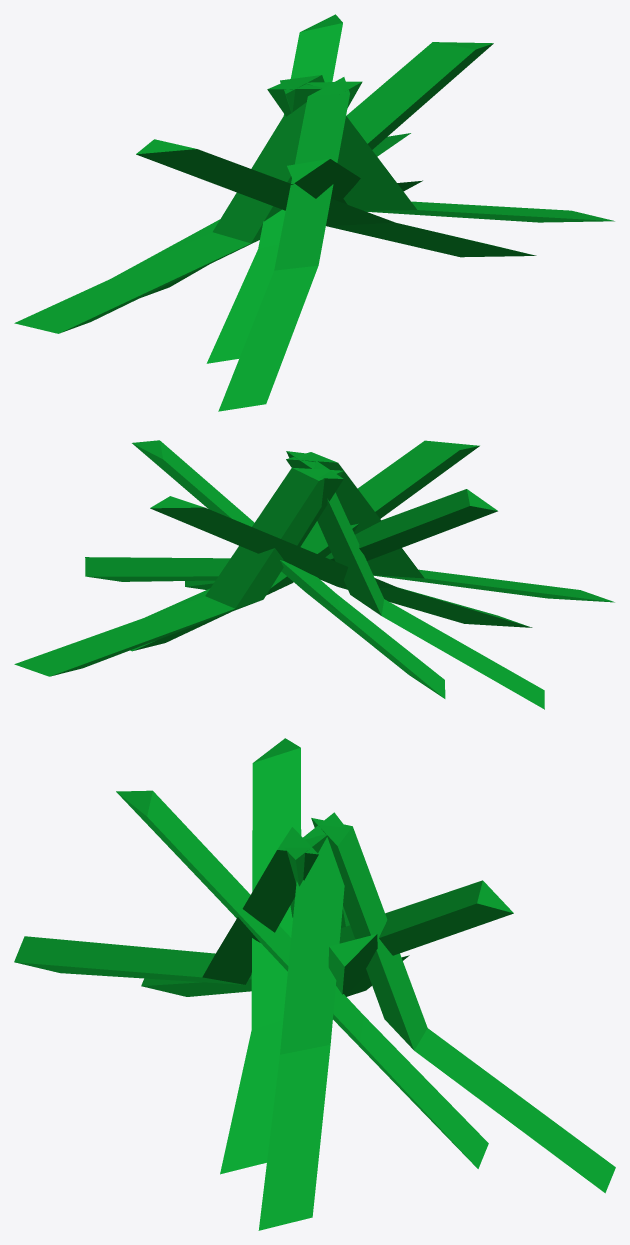
File: tuft_green.fbx
The picture shows the model from 3 angles, top to bottom: view 1: azimuth 30°, elevation 25°; view 2: azimuth 150°, elevation 25°; view 3: azimuth 270°, elevation 25°; orthographic projection. The views are drawn at different scales.
Parts seen in each view (by area): view 1: tuft; view 2: tuft; view 3: tuft.
Part boxes in pixels (<box>): tuft: <box>14,14,614,411</box>; tuft: <box>14,440,614,709</box>; tuft: <box>14,738,615,1230</box>.
Bounding box in the file's own units: 73.3 × 23.54 × 56.15.
